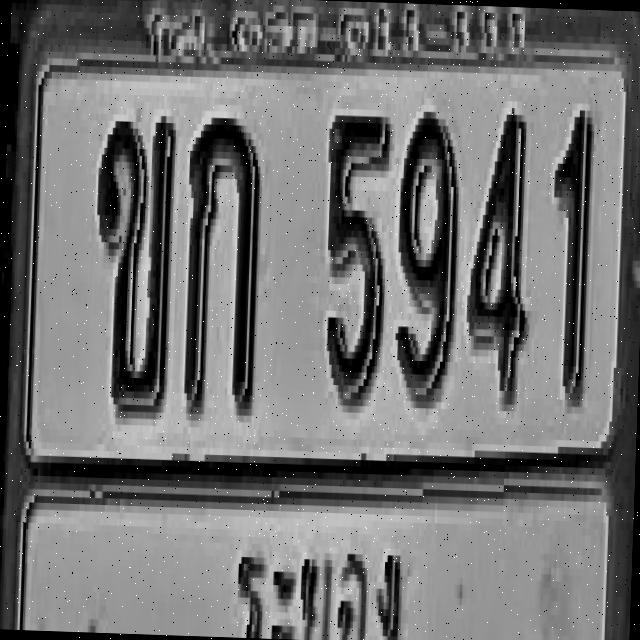1: (546, 105, 594, 404)
10GorGai: (179, 110, 263, 415)
11KhorKhai: (90, 110, 176, 416)
4: (464, 106, 534, 404)
5: (320, 108, 390, 406)
9: (393, 107, 461, 405)
Rayong: (225, 524, 412, 640)
